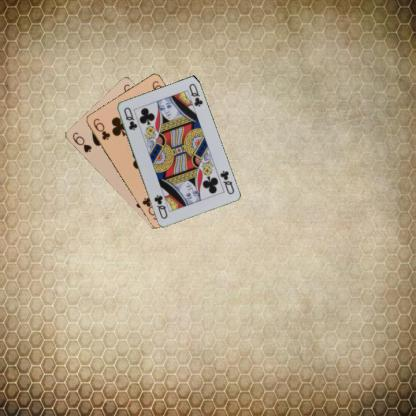6c: (90, 116, 111, 141)
6s: (70, 129, 93, 154)
Qc: (217, 168, 235, 195), (121, 105, 138, 131)
